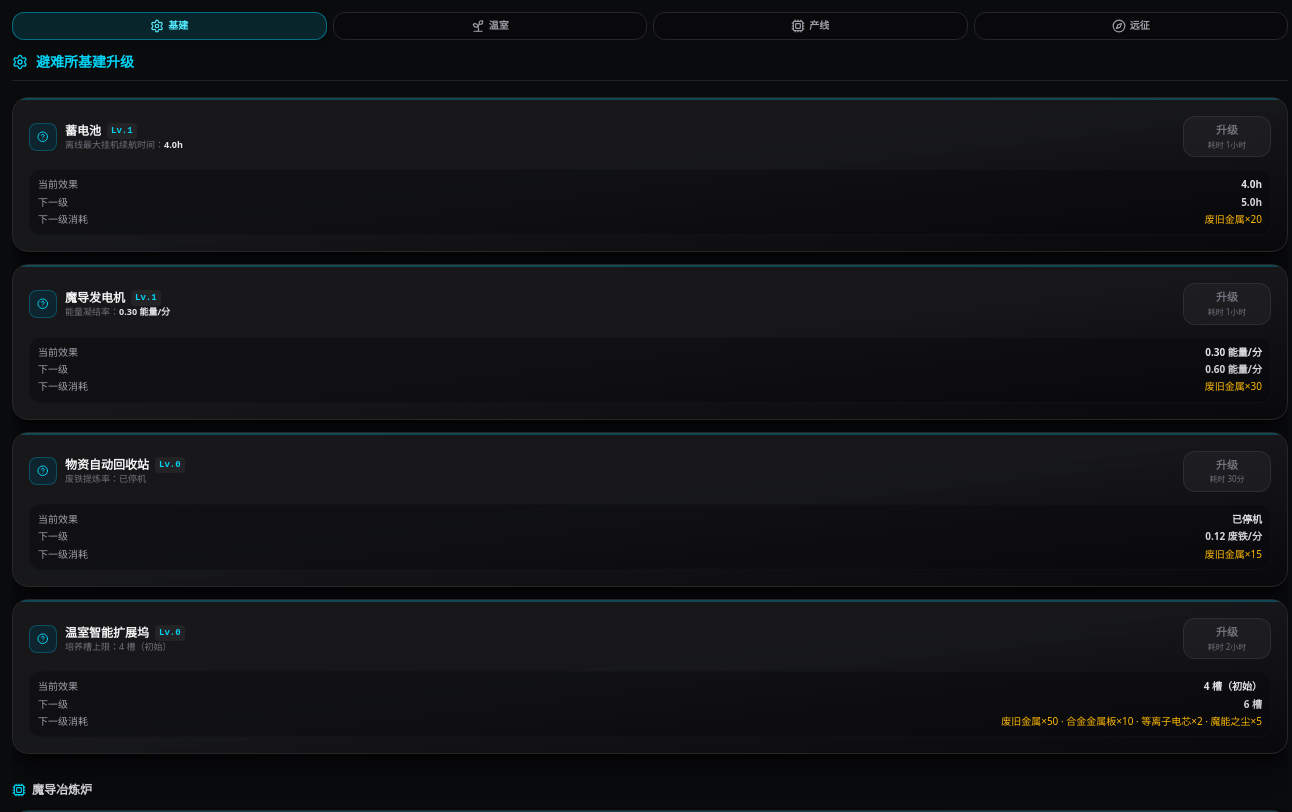
Test: 解锁条件隐藏产线设备（unlockRequirements） › 满足前置条件（generator Lv1）后冶炼炉出现
What coordinates should you click on to do the following:
click the button "产线"
I would click on:
 (810, 26)
Its box is left=653, top=12, right=968, bottom=40.
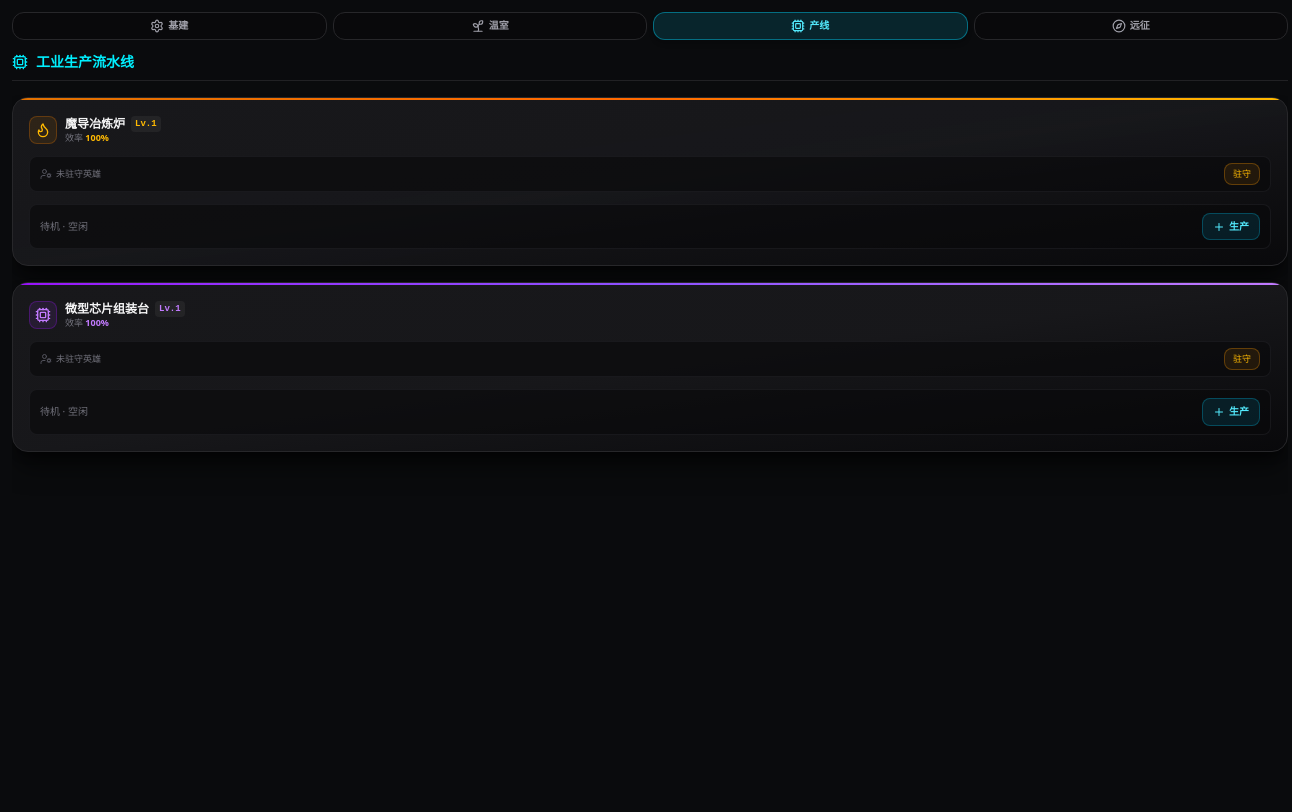
Check: the text "魔导冶炼炉" is shown, box left=65, top=115, right=125, bottom=132
Check: the text "待机 · 空闲" is shown 2 times, box left=40, top=220, right=88, bottom=233; left=40, top=405, right=88, bottom=419
